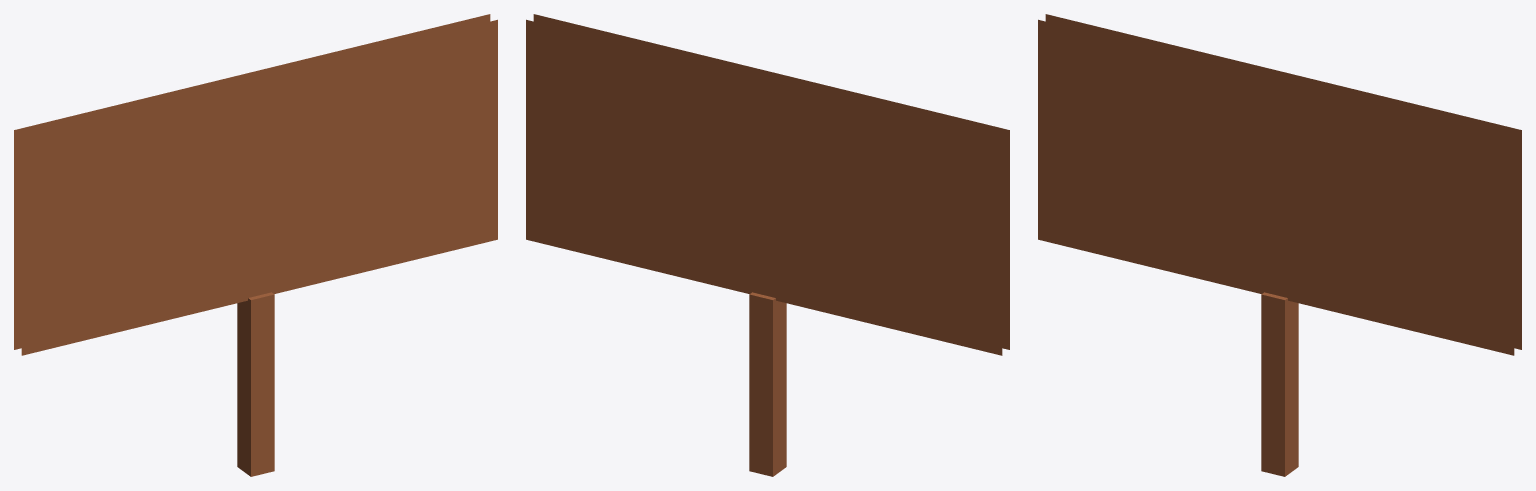
Rendered from board.obj.
3 views of the same model, side by side, from view 1: azimuth 30°, elevation 25°; view 2: azimuth 150°, elevation 25°; view 3: azimuth 330°, elevation 25° (orthographic).
Visible parts, largest first — view 1: board; view 2: board; view 3: board.
Part boxes in pixels (<box>): board: <box>14,14,497,476</box>; board: <box>526,14,1009,476</box>; board: <box>1038,14,1521,476</box>.
Bounding box in the file's own units: 2.11 × 1.67 × 0.1046.
Materials: 1 (1 with a texture image).
